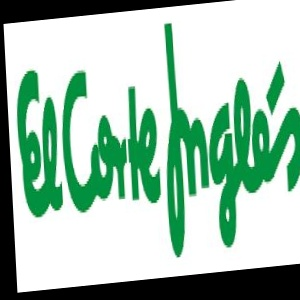corte_ingles: (294, 3, 300, 22)
